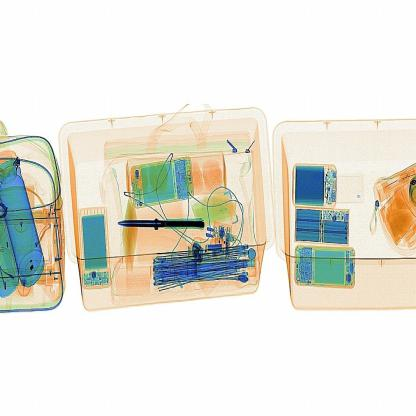gun: (114, 207, 218, 240)
